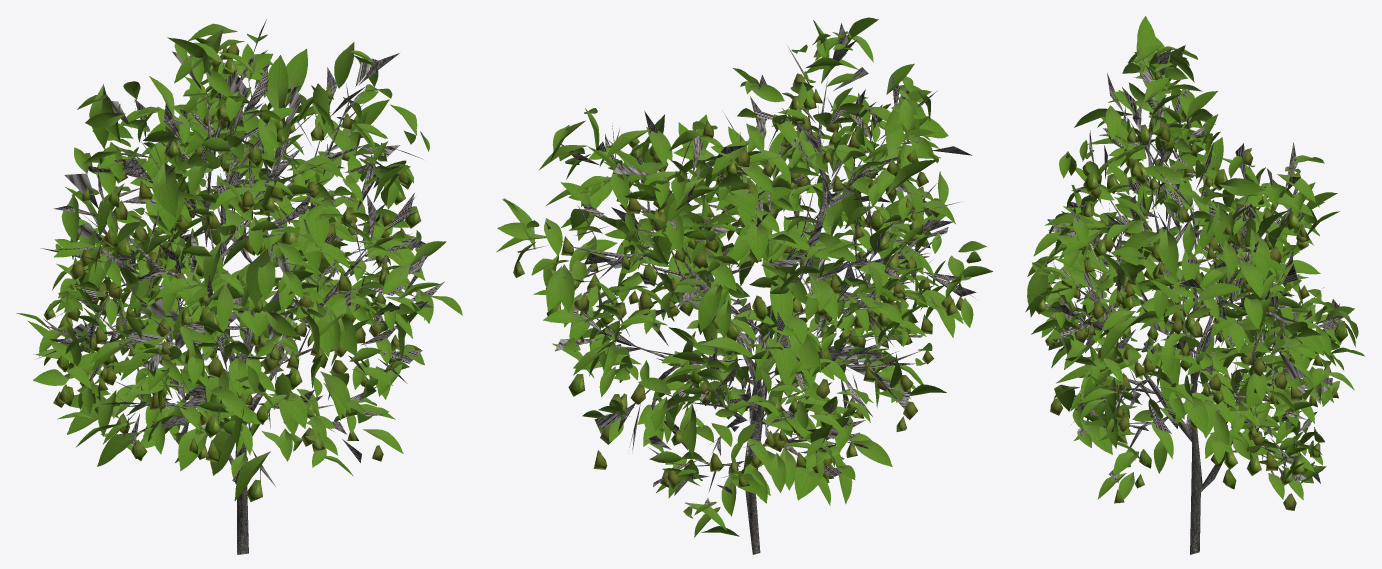
Rendered from tree-avocado.glb.
The picture shows the model from 3 angles, left to right: view 1: azimuth 30°, elevation 25°; view 2: azimuth 150°, elevation 25°; view 3: azimuth 270°, elevation 25°; orthographic projection. The views are drawn at different scales.
Parts seen in each view (by area): view 1: tree-avocado; view 2: tree-avocado; view 3: tree-avocado.
Boxes of the visible parts, x1,y1,x2,y2 form: tree-avocado: [16, 19, 462, 554]; tree-avocado: [496, 17, 992, 554]; tree-avocado: [1025, 16, 1365, 554].
Size of the model in its own units: 4.68 by 6 by 3.79.
3 materials, 3 textured.
